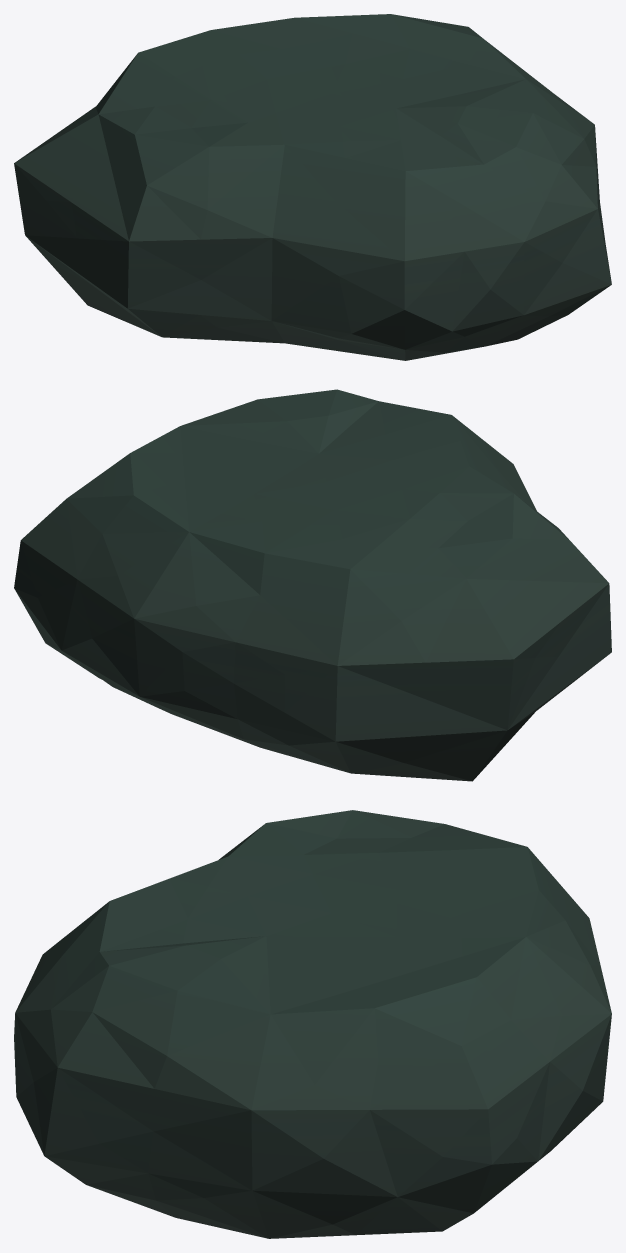
Rendered from SM_Cliff_02.fbx.
3 renders of one model, top to bottom at view 1: azimuth 30°, elevation 25°; view 2: azimuth 150°, elevation 25°; view 3: azimuth 270°, elevation 25°, orthographic. The views are drawn at different scales.
Visible parts, largest first — view 1: SM_Cliff_02; view 2: SM_Cliff_02; view 3: SM_Cliff_02.
Part boxes in pixels (left/top/right/bottom): SM_Cliff_02: left=14, top=14, right=611, bottom=360; SM_Cliff_02: left=14, top=389, right=611, bottom=781; SM_Cliff_02: left=14, top=810, right=611, bottom=1238.
Size of the model in its own units: 715 by 294 by 668.
Materials: 1 (1 with a texture image).
